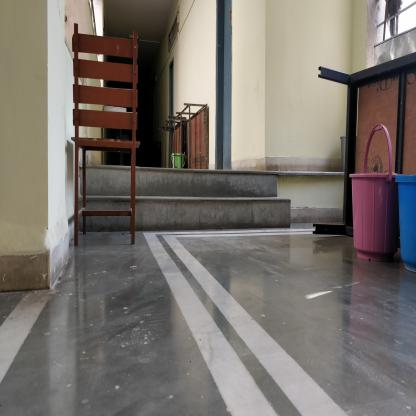stairs: (142, 166, 276, 237)
